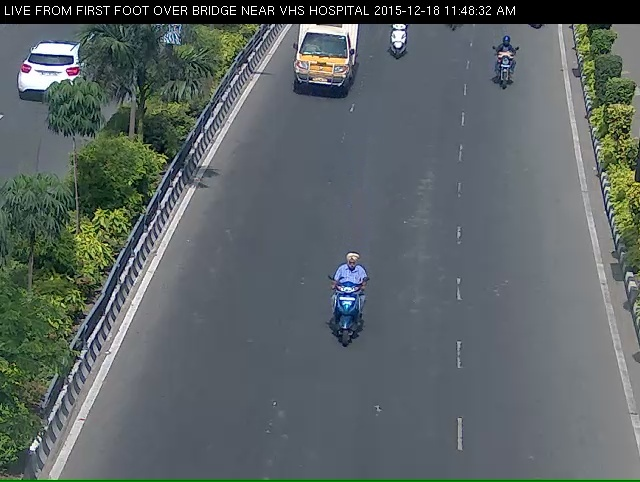Auto: (290, 24, 358, 114)
Person: (324, 278, 370, 384), (491, 39, 520, 102), (381, 24, 411, 76)
